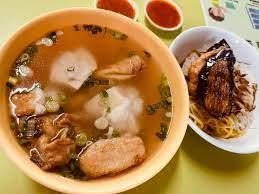Braised Crucian Carp: (0, 7, 188, 192), (168, 25, 257, 152)
